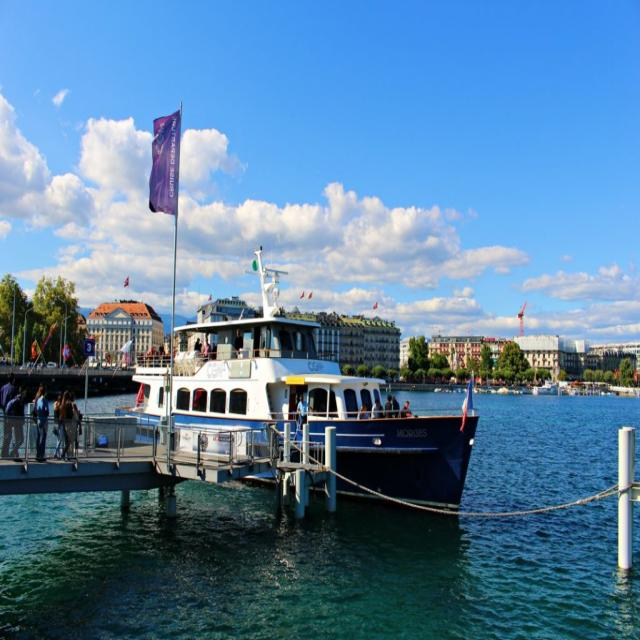houseboat: (136, 290, 473, 498)
